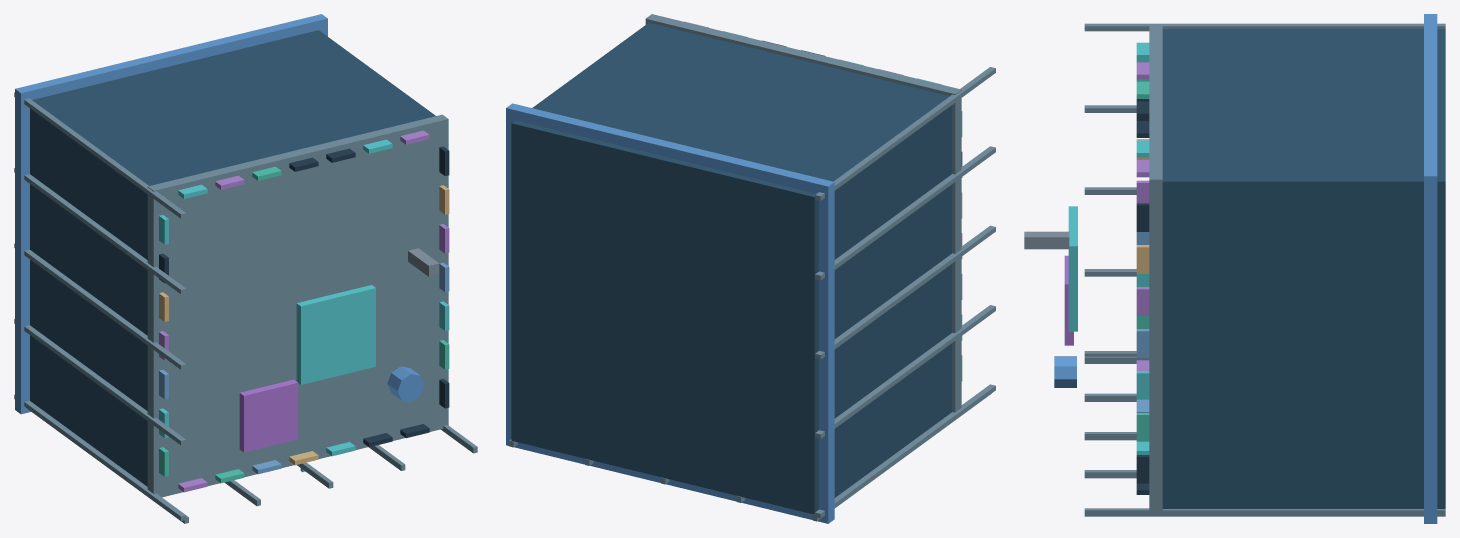
File: commercial.glb
3 renders of one model, left to right at view 1: azimuth 30°, elevation 25°; view 2: azimuth 150°, elevation 25°; view 3: azimuth 270°, elevation 25°, orthographic. The views are drawn at different scales.
Visible parts, largest first — view 1: geometry_0; view 2: geometry_0; view 3: geometry_0.
Part boxes in pixels (bbox=[...]): geometry_0: bbox=[14, 14, 477, 523]; geometry_0: bbox=[506, 14, 995, 523]; geometry_0: bbox=[1024, 14, 1445, 523].
Size of the model in its own units: 1.02 by 1.02 by 1.12.
